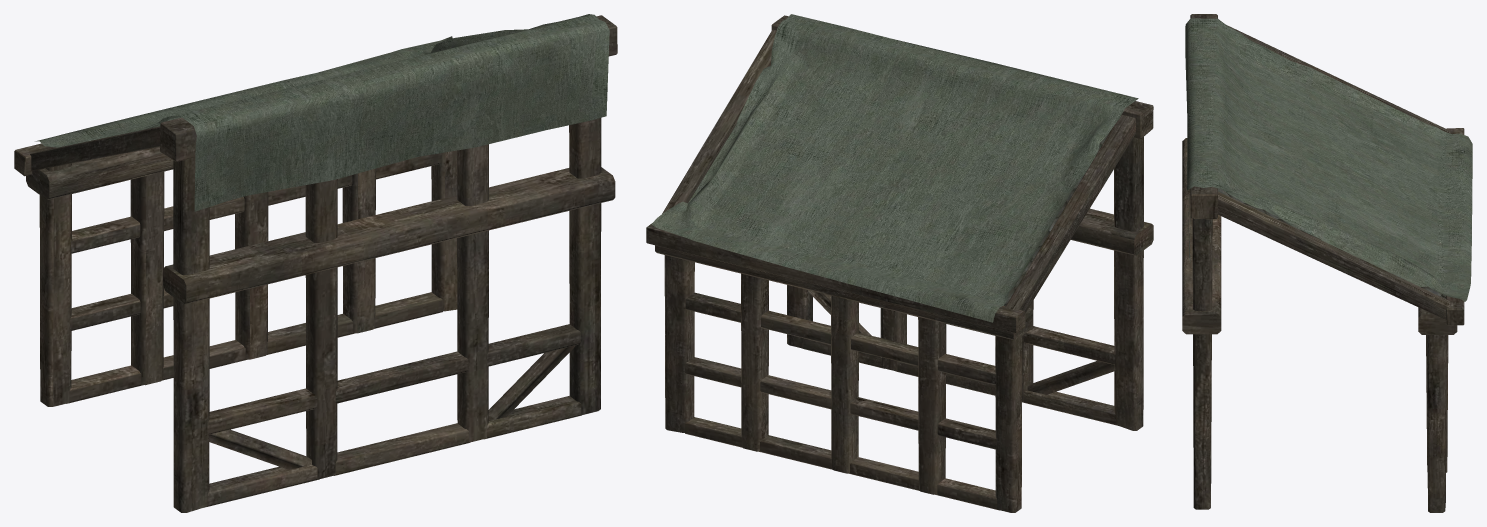
The model's file is SHO_Center_B-transformed.glb.
3 views of the same model, side by side, from view 1: azimuth 30°, elevation 25°; view 2: azimuth 150°, elevation 25°; view 3: azimuth 270°, elevation 25° (orthographic). The views are drawn at different scales.
Parts seen in each view (by area): view 1: default; view 2: default; view 3: default.
Boxes of the visible parts, box(x1,y1,x2,y2) form: default: box(14, 14, 617, 512); default: box(646, 14, 1153, 512); default: box(1182, 14, 1472, 512).
Size of the model in its own units: 5.05 by 4.22 by 3.4.
Materials: 3 (3 with a texture image).
